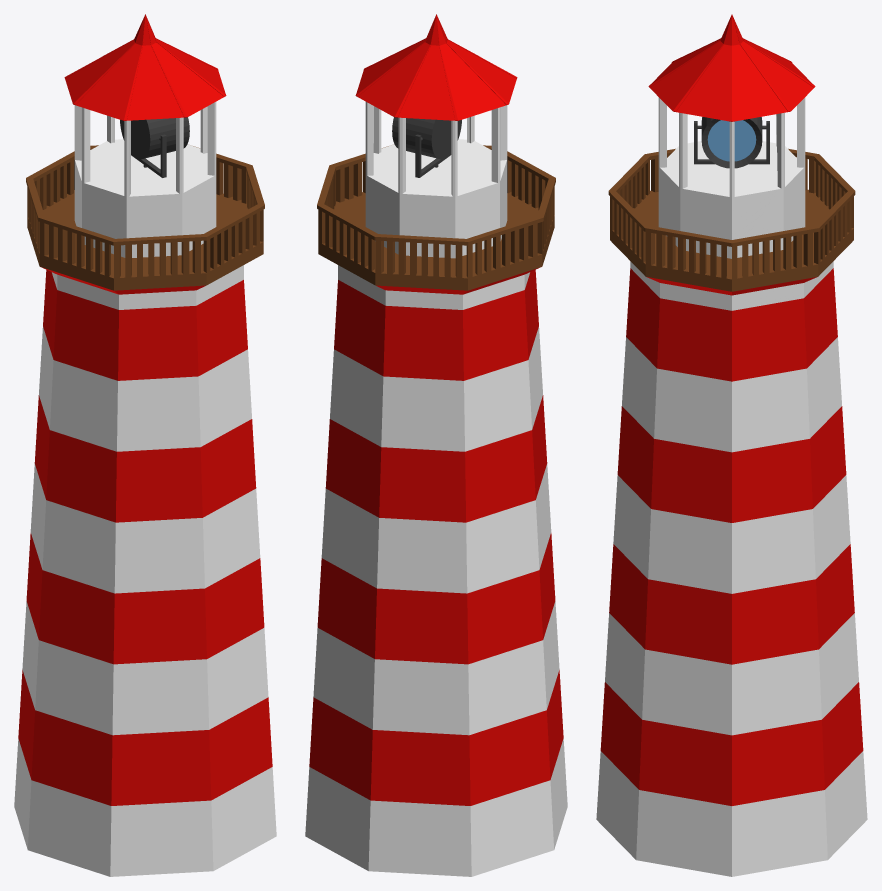
Rendered from light_house.fbx.
3 views of the same model, side by side, from view 1: azimuth 30°, elevation 25°; view 2: azimuth 150°, elevation 25°; view 3: azimuth 270°, elevation 25° (orthographic).
Visible parts, largest first — view 1: Body, Light; view 2: Body, Light; view 3: Body, Light.
Part boxes in pixels (left/top/right/bottom): Body: left=14, top=14, right=276, bottom=876; Light: left=120, top=117, right=189, bottom=177; Body: left=305, top=14, right=567, bottom=876; Light: left=392, top=117, right=461, bottom=177; Body: left=596, top=14, right=867, bottom=876; Light: left=694, top=117, right=769, bottom=168.
Size of the model in its own units: 400 by 1311 by 400.
